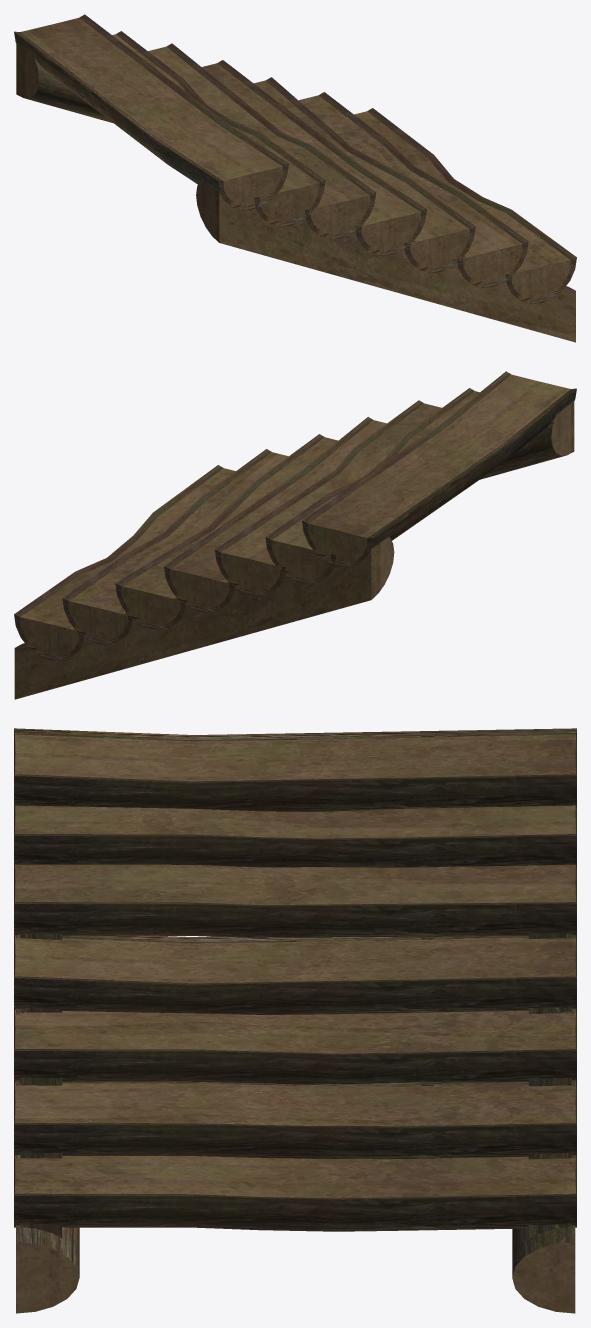
3 renders of one model, top to bottom at view 1: azimuth 30°, elevation 25°; view 2: azimuth 150°, elevation 25°; view 3: azimuth 270°, elevation 25°, orthographic. The views are drawn at different scales.
Parts seen in each view (by area): view 1: SM_T1_Stairs_Shallow_LOD0; view 2: SM_T1_Stairs_Shallow_LOD0; view 3: SM_T1_Stairs_Shallow_LOD0.
Boxes of the visible parts, <box> form: SM_T1_Stairs_Shallow_LOD0: <box>14,14,576,342</box>; SM_T1_Stairs_Shallow_LOD0: <box>14,371,576,699</box>; SM_T1_Stairs_Shallow_LOD0: <box>14,728,576,1313</box>.
Size of the model in its own units: 1.53 by 1.02 by 1.51.
Materials: 1 (1 with a texture image).
